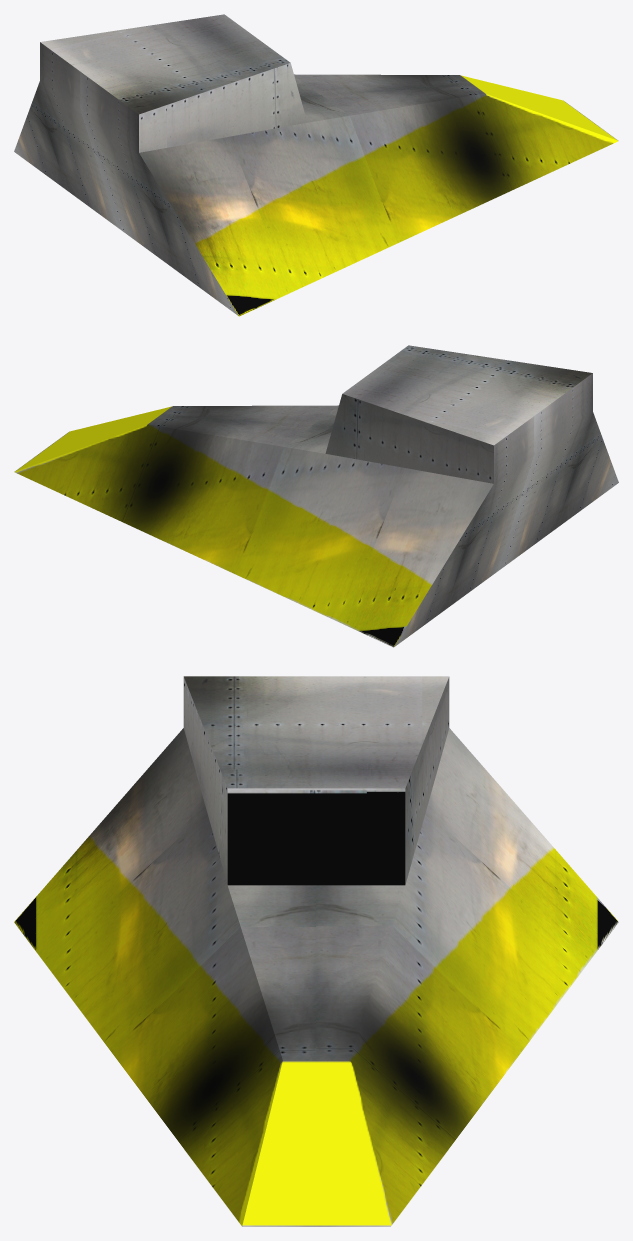
Rendered from speedBoat01_YELLOW.fbx.
3 views of the same model, one above another, from view 1: azimuth 30°, elevation 25°; view 2: azimuth 150°, elevation 25°; view 3: azimuth 270°, elevation 25° (orthographic). The views are drawn at different scales.
Parts seen in each view (by area): view 1: pCube1; view 2: pCube1; view 3: pCube1.
Part boxes in pixels (<box>): pCube1: <box>14,14,618,316</box>; pCube1: <box>14,345,618,647</box>; pCube1: <box>14,676,618,1226</box>.
Bounding box in the file's own units: 23.99 × 7.54 × 18.65.
1 material, 1 textured.
